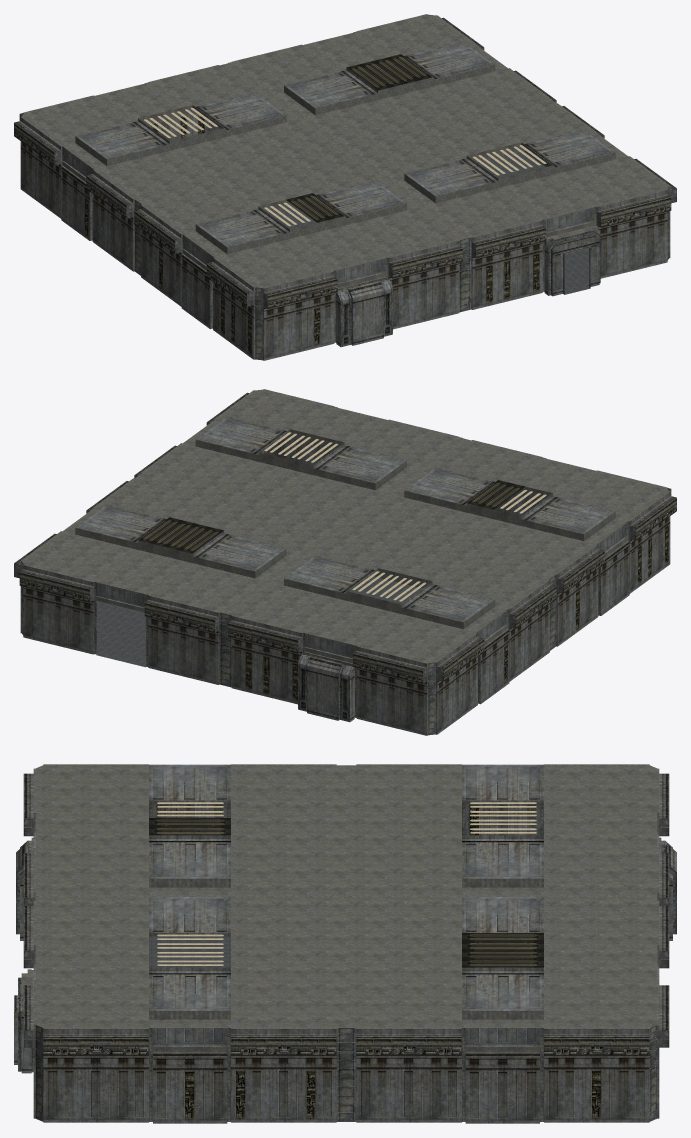
File: poi_all_impl_bunker_abandoned_s01_r17_barracks_mesh.fbx
3 views of the same model, one above another, from view 1: azimuth 30°, elevation 25°; view 2: azimuth 150°, elevation 25°; view 3: azimuth 270°, elevation 25° (orthographic). The views are drawn at different scales.
Visible parts, largest first — view 1: mesh_node; view 2: mesh_node; view 3: mesh_node.
Part boxes in pixels (x1,y1,x2,y2): mesh_node: (14, 14, 676, 360); mesh_node: (14, 389, 676, 735); mesh_node: (14, 764, 676, 1123).
Size of the model in its own units: 33 by 6 by 33.9.
